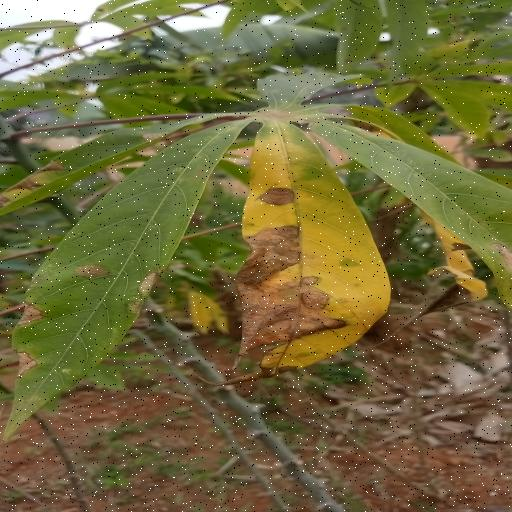Cassava_Root_Rot: (0, 101, 512, 416)
